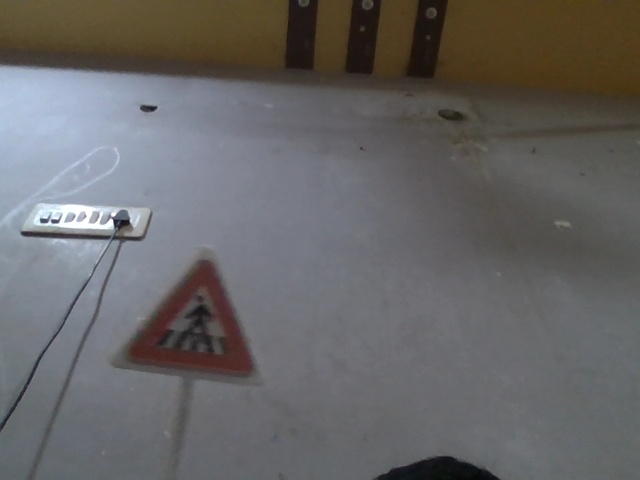crossing: (89, 235, 259, 389)
